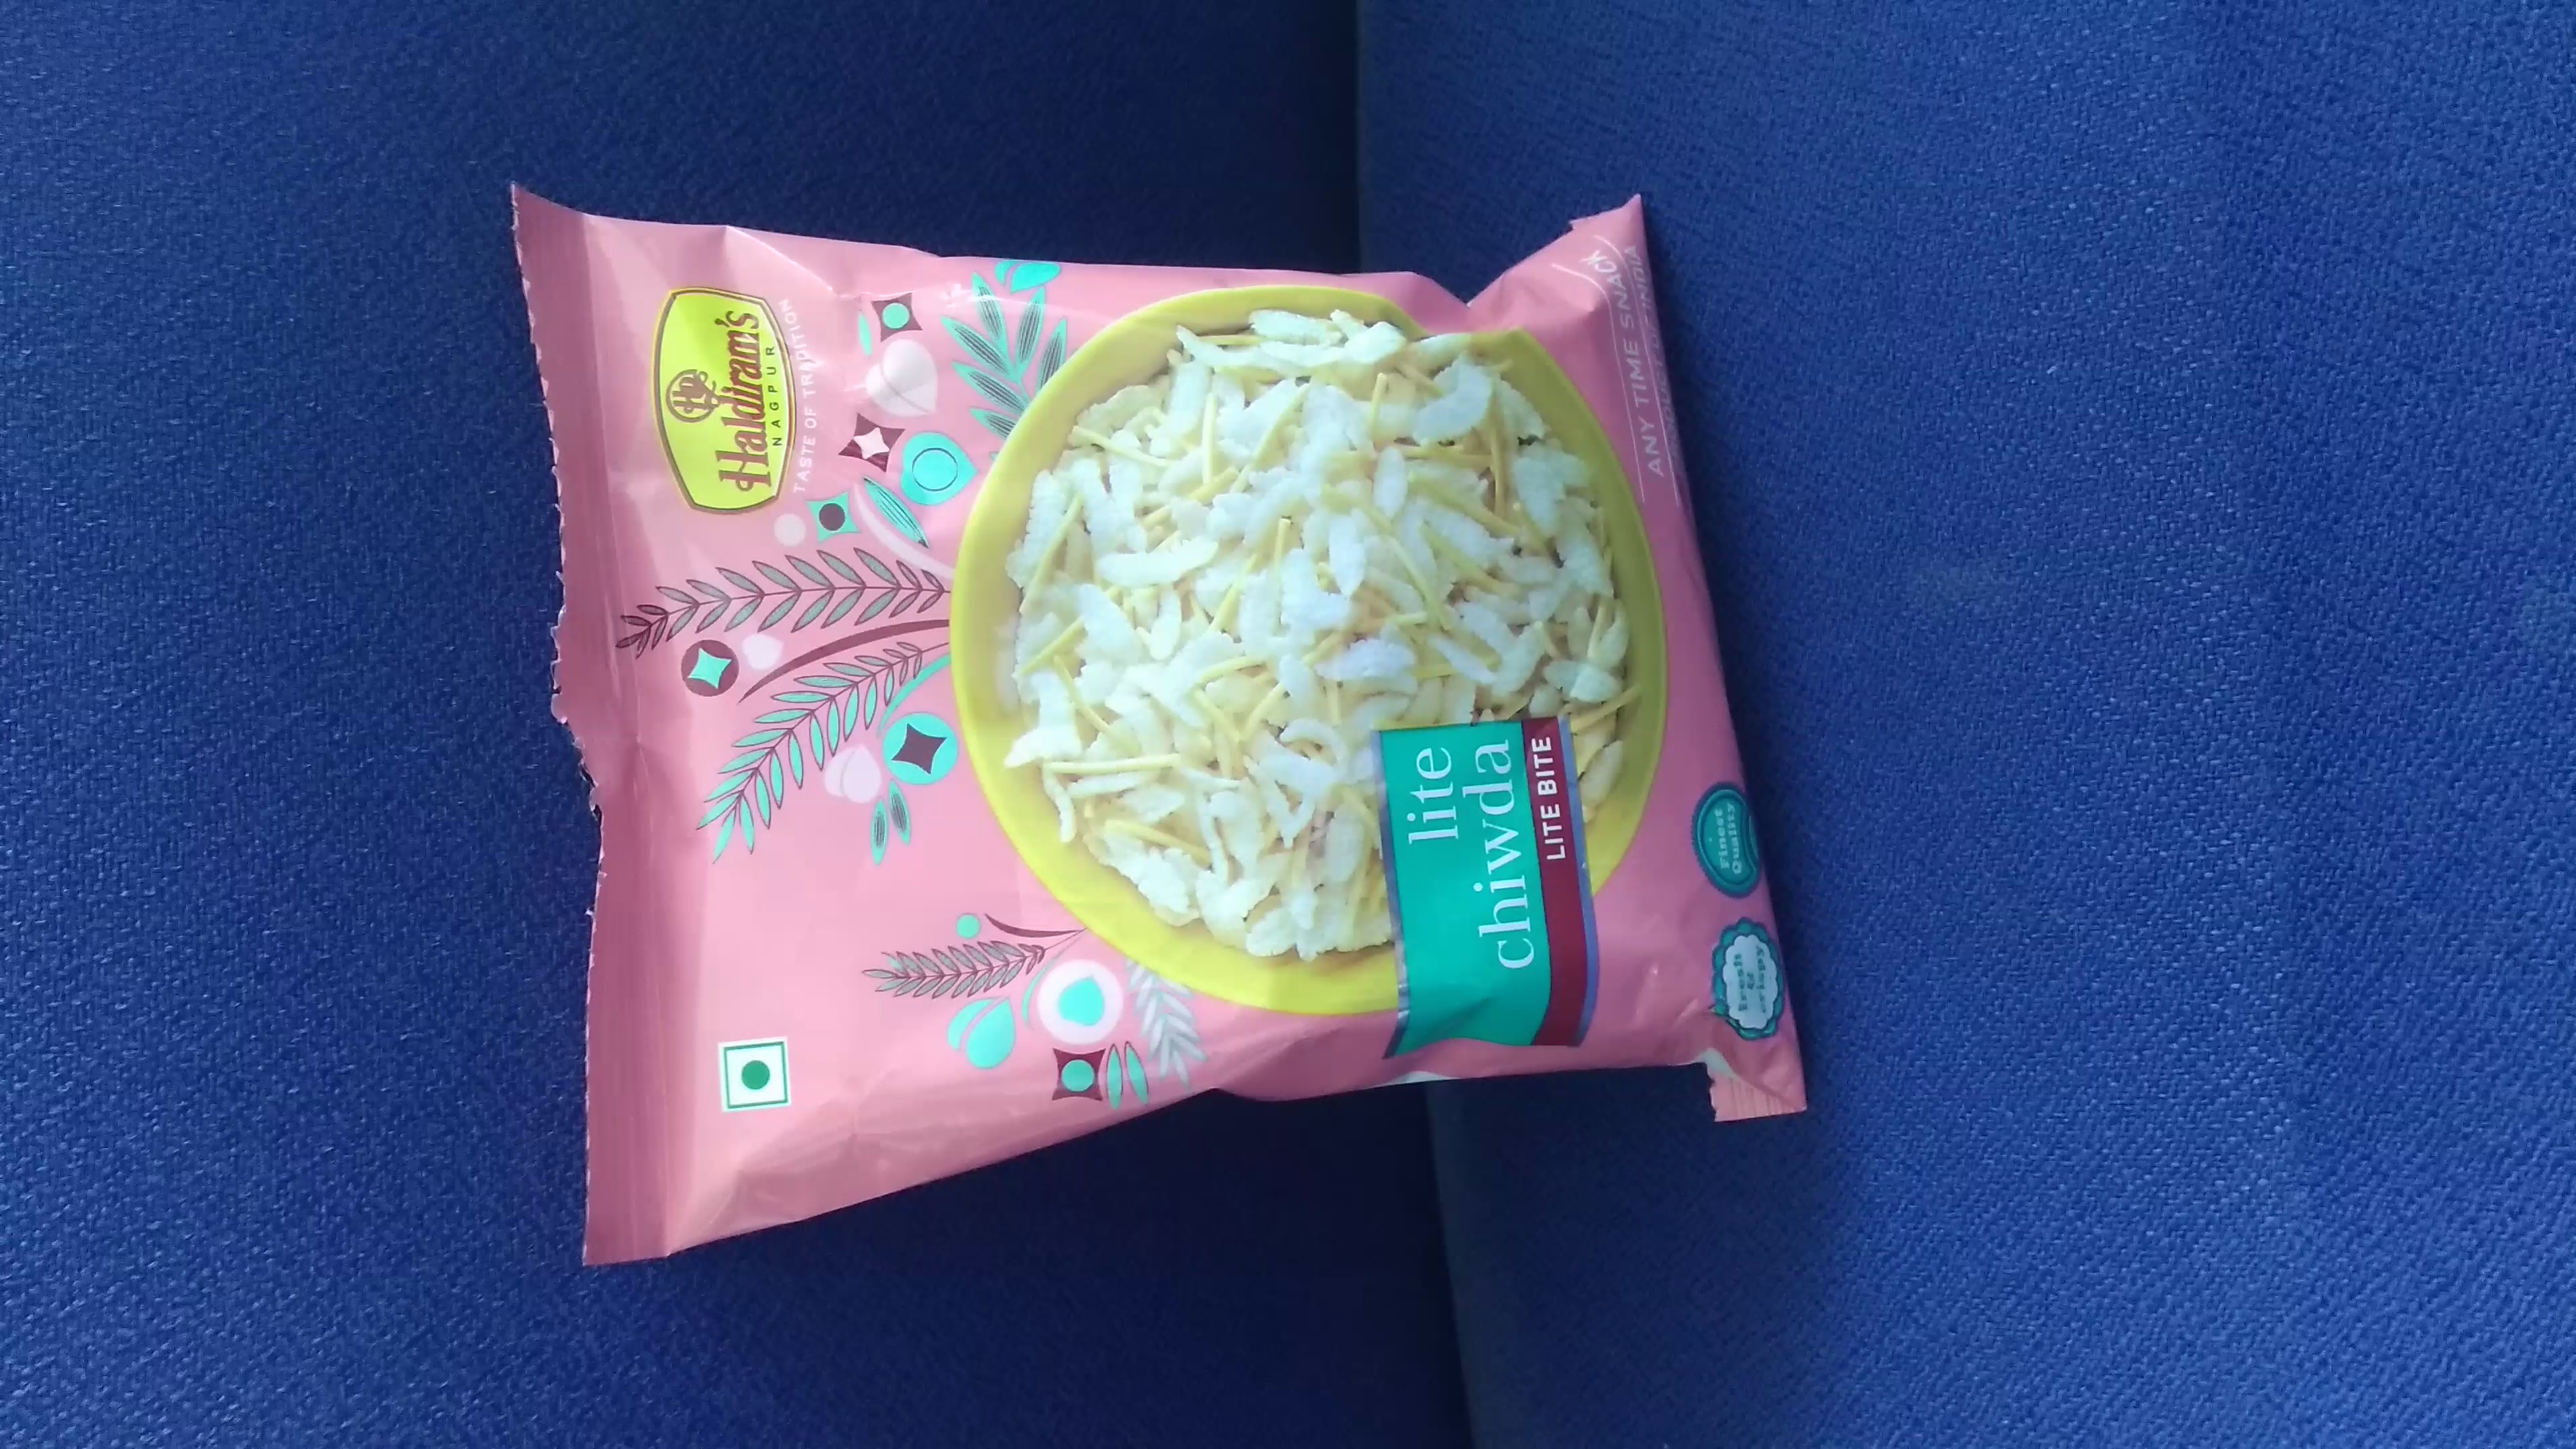liteChiwda: (506, 177, 1819, 1270)
